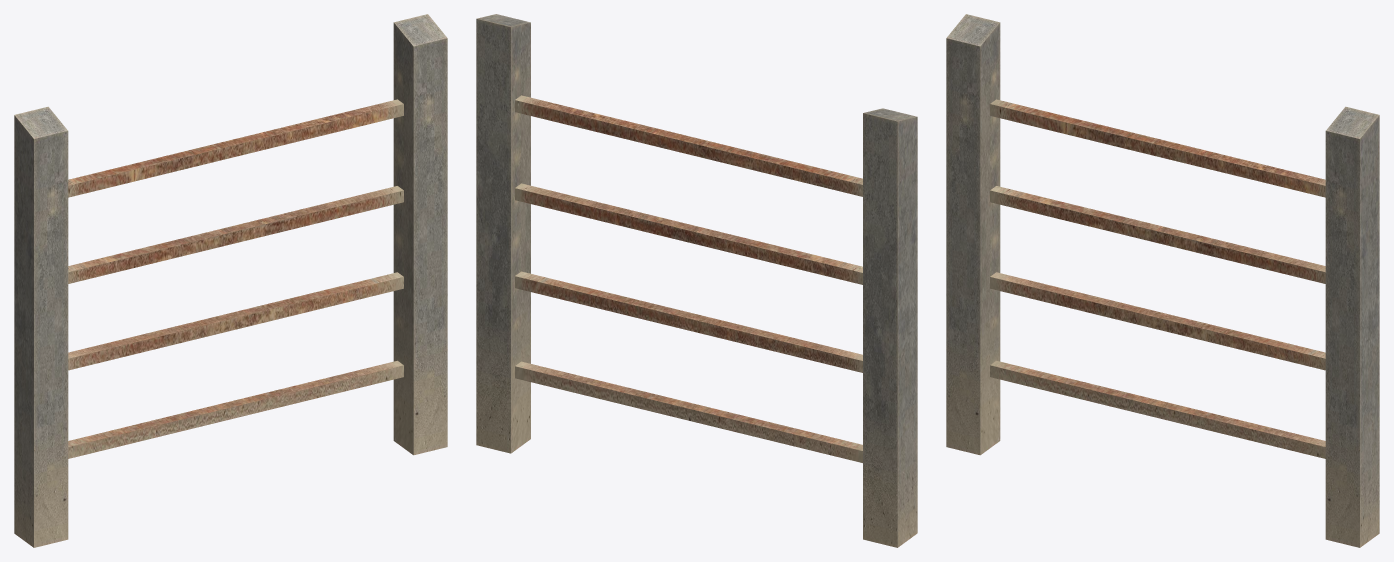
Rendered from DesertBarrier 1.glb.
The picture shows the model from 3 angles, left to right: view 1: azimuth 30°, elevation 25°; view 2: azimuth 150°, elevation 25°; view 3: azimuth 330°, elevation 25°; orthographic projection.
Parts seen in each view (by area): view 1: var3_var3_0.002; view 2: var3_var3_0.002; view 3: var3_var3_0.002.
Part boxes in pixels (box(x1,y1,x2,y2)): var3_var3_0.002: box(14, 14, 447, 547); var3_var3_0.002: box(476, 14, 917, 547); var3_var3_0.002: box(946, 14, 1379, 547).
Bounding box in the file's own units: 1.51 × 1.46 × 0.1251.
1 material, 1 textured.
